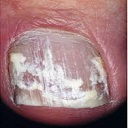Nail Fungal Infection: (8, 54, 116, 109)
